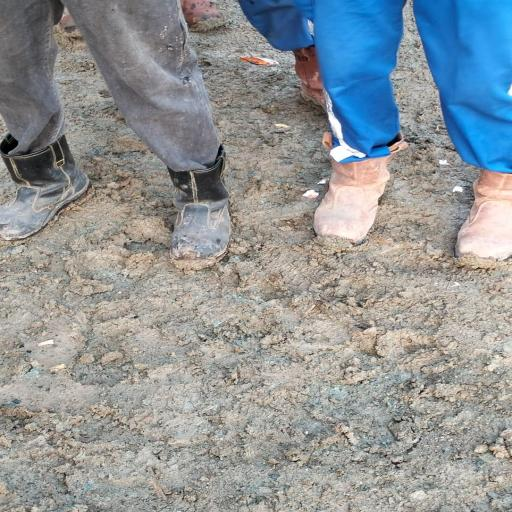safety_shoe: (158, 146, 247, 267), (0, 129, 90, 243), (314, 145, 391, 250), (451, 170, 512, 262)
